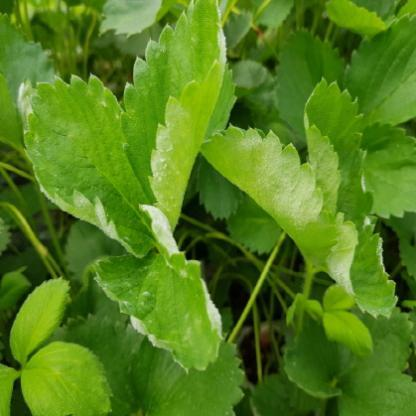Strawberry_Powdery_Mildew_Leaf: (119, 0, 228, 234), (22, 73, 157, 261), (92, 203, 224, 373), (198, 122, 338, 270), (323, 211, 399, 320)
